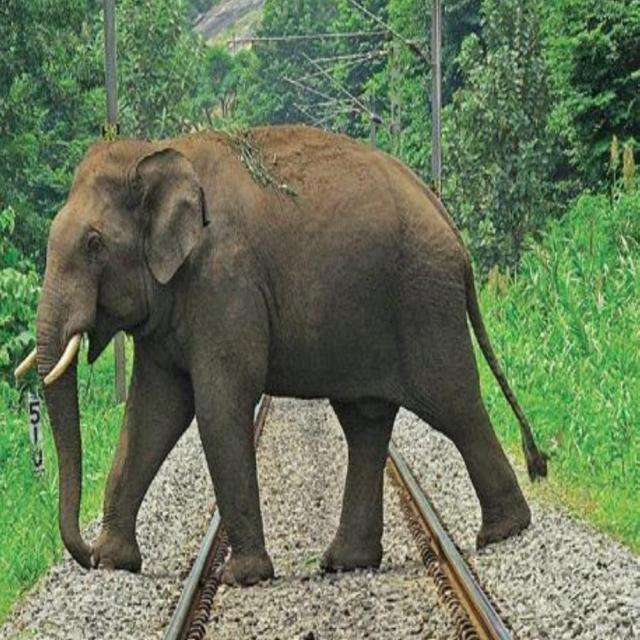Elephant: (12, 117, 554, 591)
